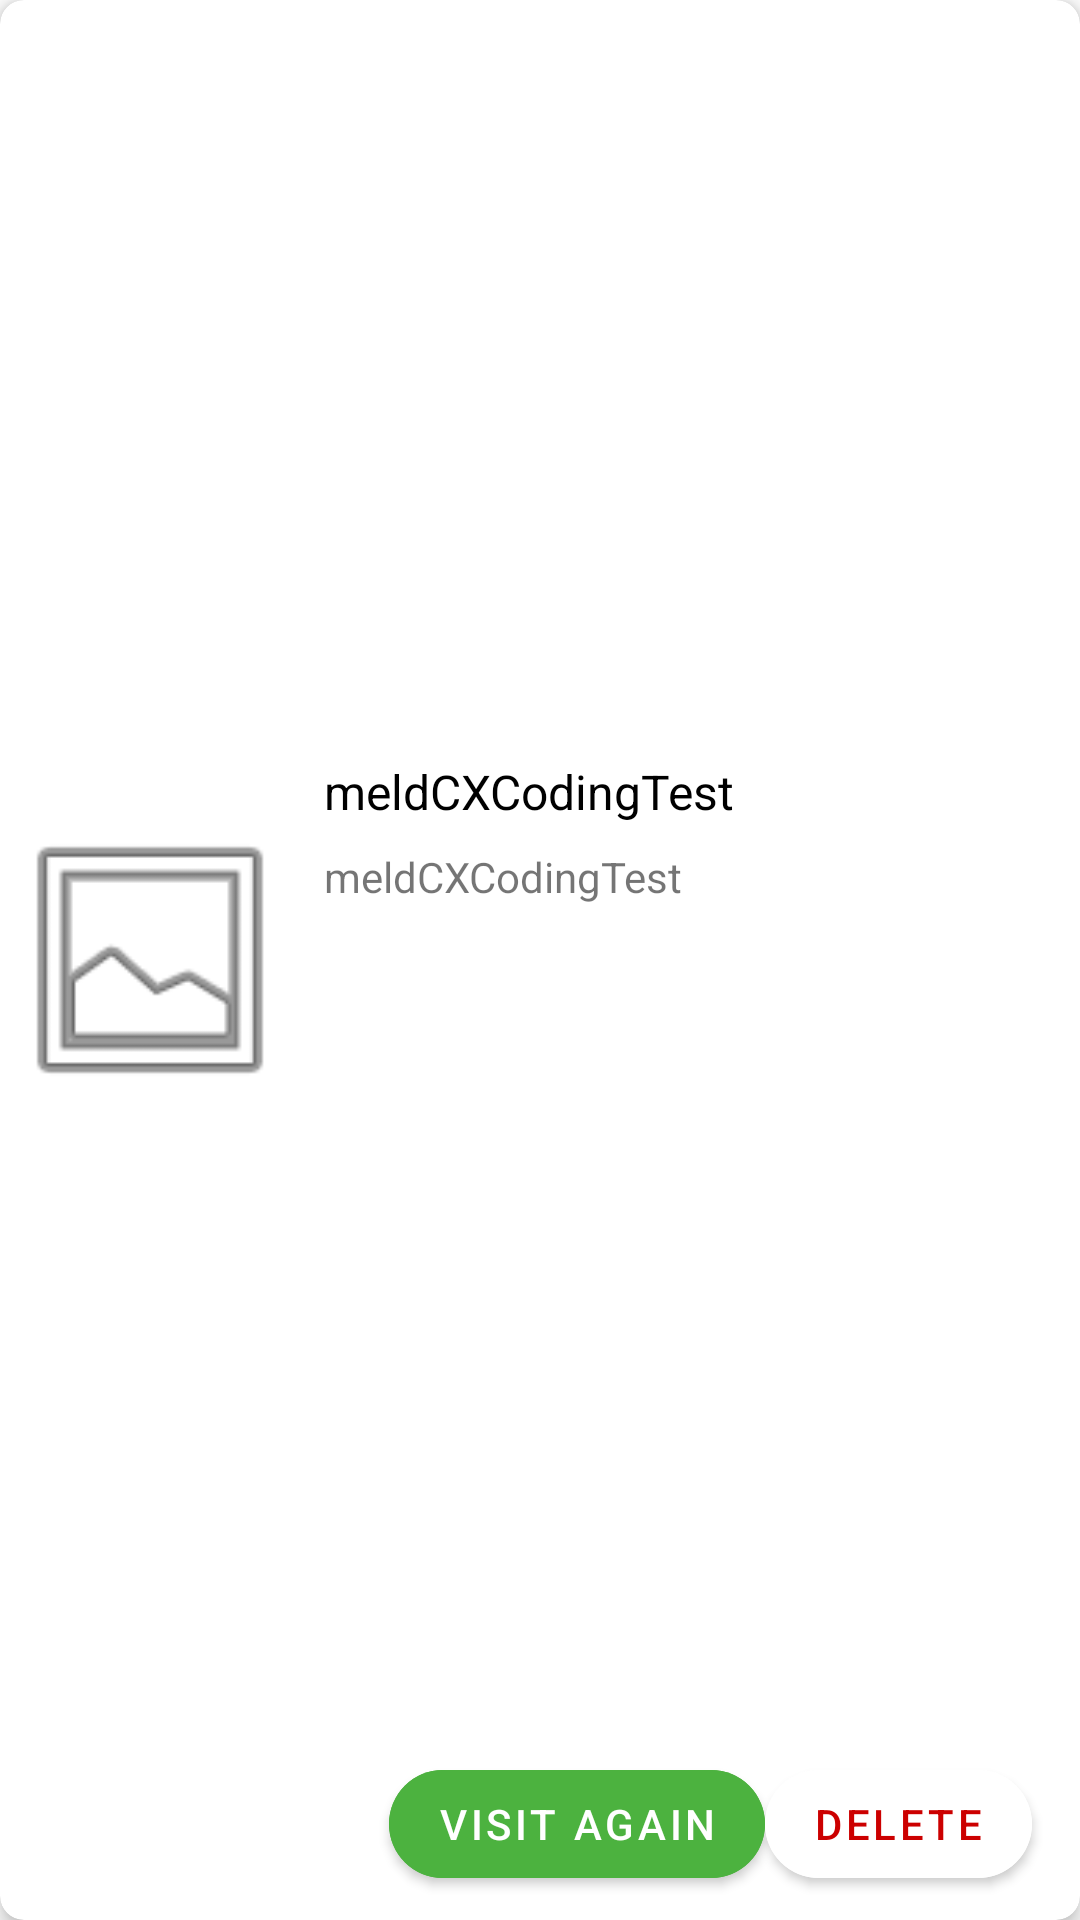

Screen size 1080px×1920px. Icon name, then its center in pixels as (x,y):
gallery: (150,960)
